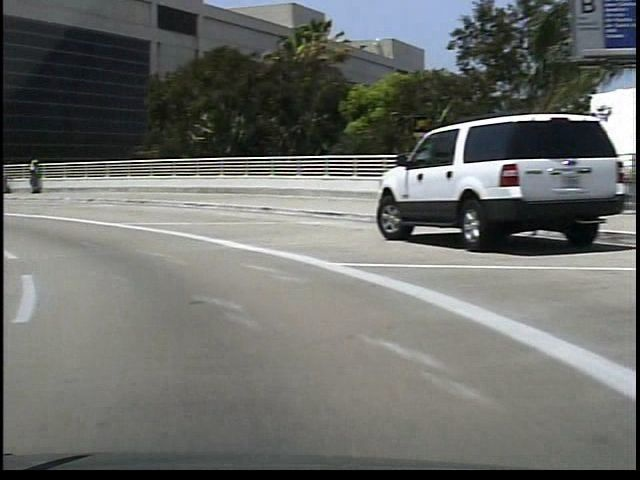person: (23, 155, 40, 196)
